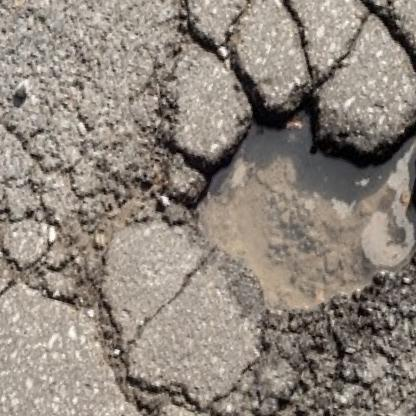pothole: (149, 54, 416, 366)
